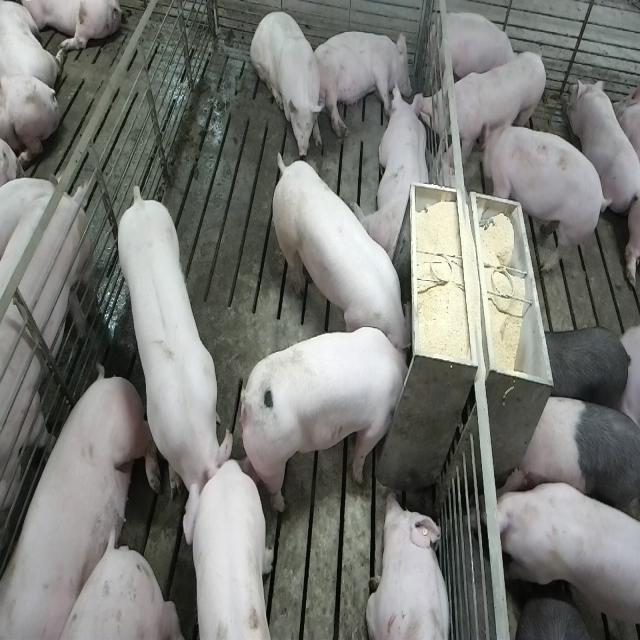Feeding: (244, 325, 419, 515), (267, 142, 410, 357)
Lateral_lying: (310, 28, 413, 138)
Sitting: (250, 7, 324, 160)
Standing: (0, 168, 96, 640), (116, 187, 230, 523), (495, 479, 640, 639), (480, 116, 608, 274), (178, 460, 270, 640), (516, 392, 638, 526), (417, 50, 549, 171), (530, 324, 633, 418)
Sternal_lying: (365, 489, 453, 640), (359, 85, 432, 265), (570, 74, 638, 222), (430, 10, 520, 93)
